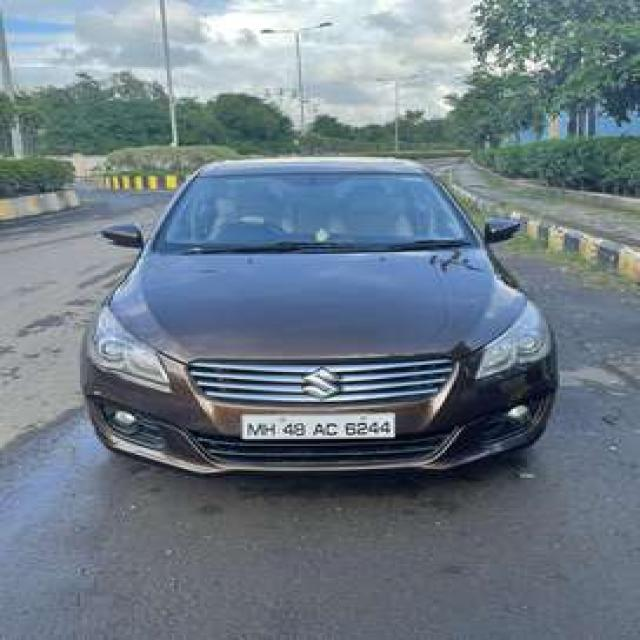Plate: (241, 412, 394, 438)
